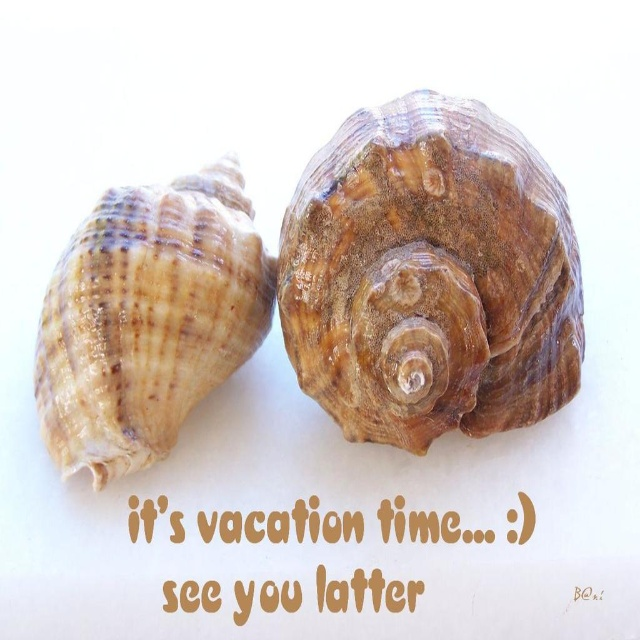Snail: (277, 90, 586, 458)
